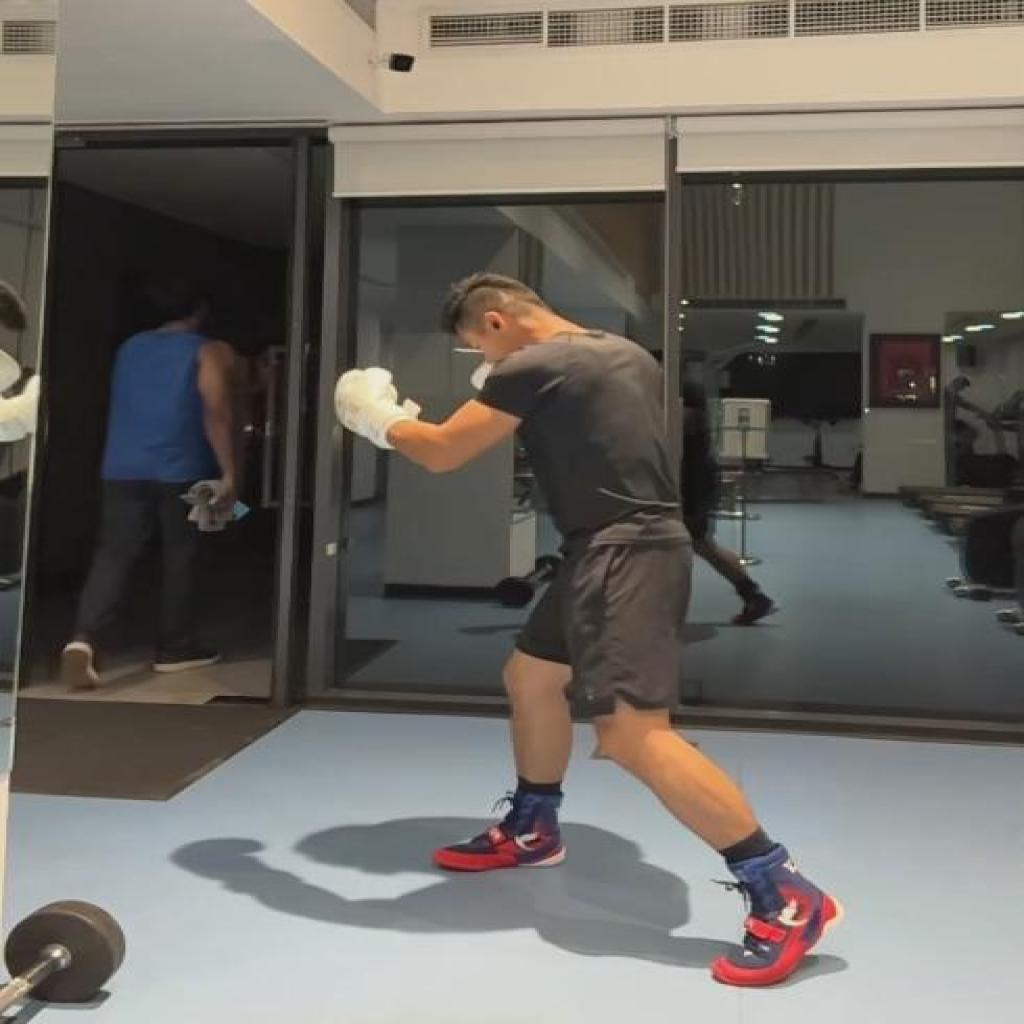uppercut: (339, 272, 842, 990)
